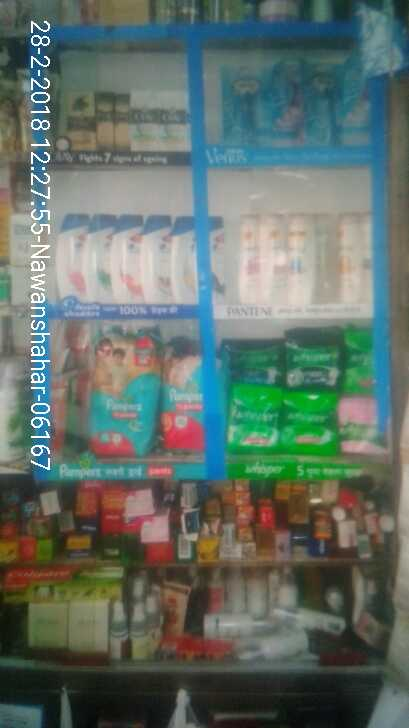venus: (218, 68, 268, 148), (331, 66, 374, 144), (301, 72, 331, 144)
